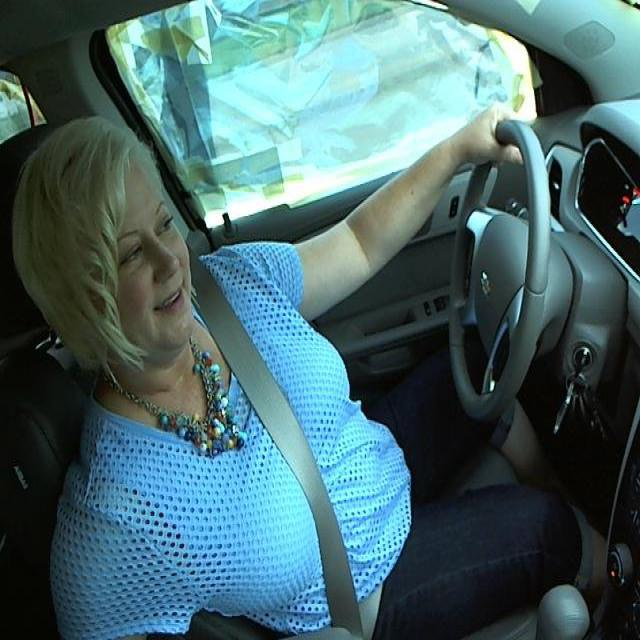seatbelt: (255, 397, 413, 639)
